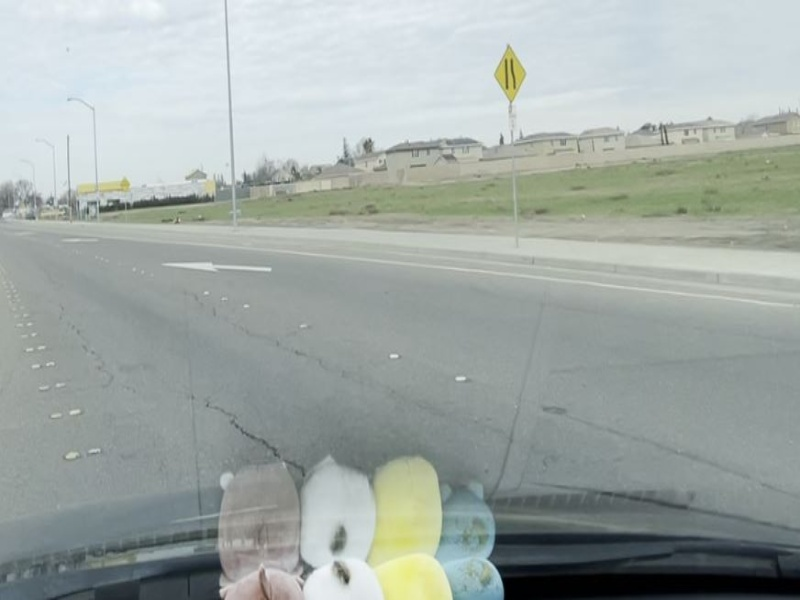merge sign: (489, 46, 531, 104)
